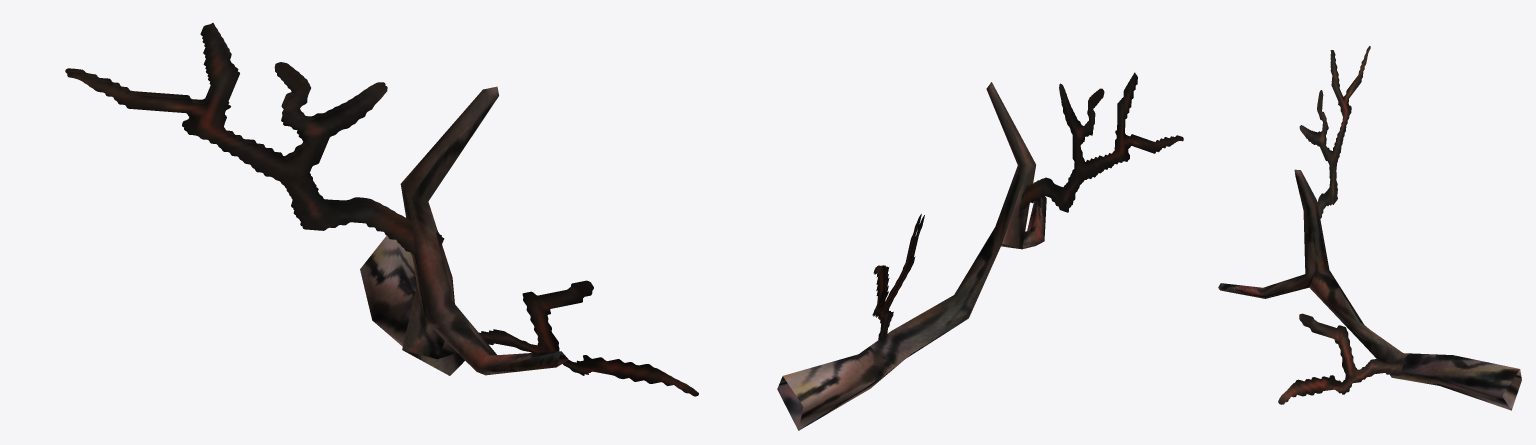
File: FOL_DeadTreeBrunchA.FBX
3 views of the same model, side by side, from view 1: azimuth 30°, elevation 25°; view 2: azimuth 150°, elevation 25°; view 3: azimuth 270°, elevation 25° (orthographic). The views are drawn at different scales.
Parts seen in each view (by area): view 1: FOL_DeadTreeBrunchA; view 2: FOL_DeadTreeBrunchA; view 3: FOL_DeadTreeBrunchA.
Boxes of the visible parts, x1,y1,x2,y2 form: FOL_DeadTreeBrunchA: (65,23,698,396); FOL_DeadTreeBrunchA: (777,72,1183,430); FOL_DeadTreeBrunchA: (1218,46,1521,410).
Bounding box in the file's own units: 247 × 201 × 198.
